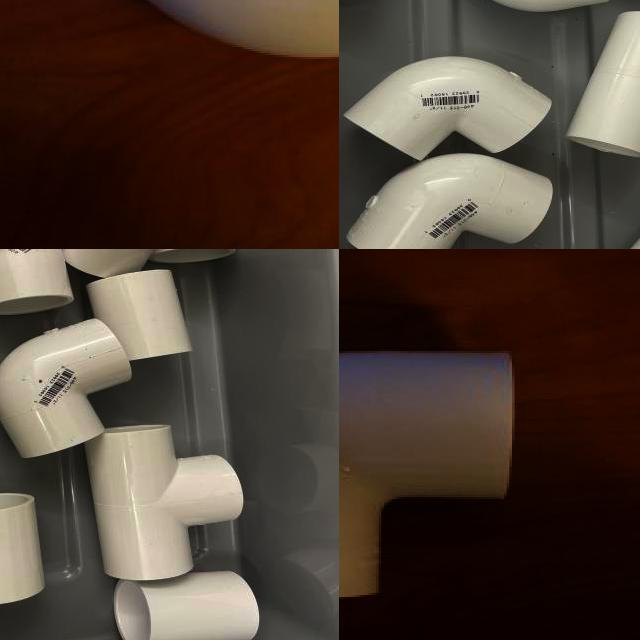L Joint: (339, 352, 516, 601), (342, 56, 552, 162), (346, 156, 556, 249), (0, 319, 133, 462)
T Joint: (94, 425, 244, 580), (566, 11, 640, 160)
